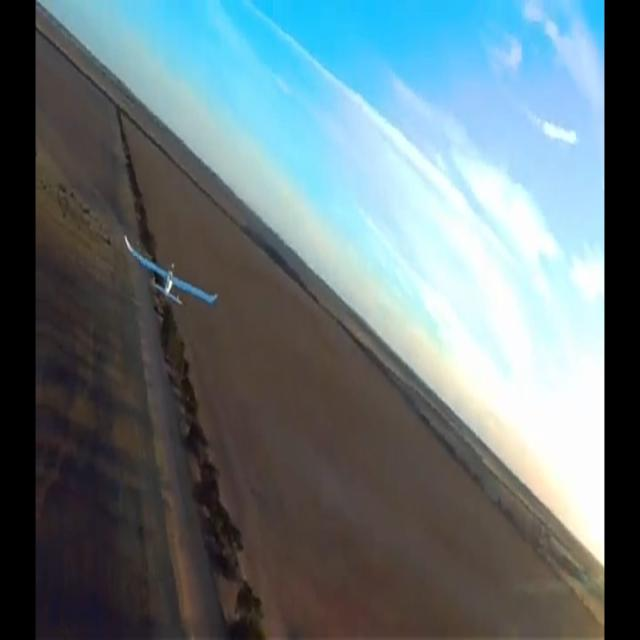iha: (156, 268, 186, 273)
